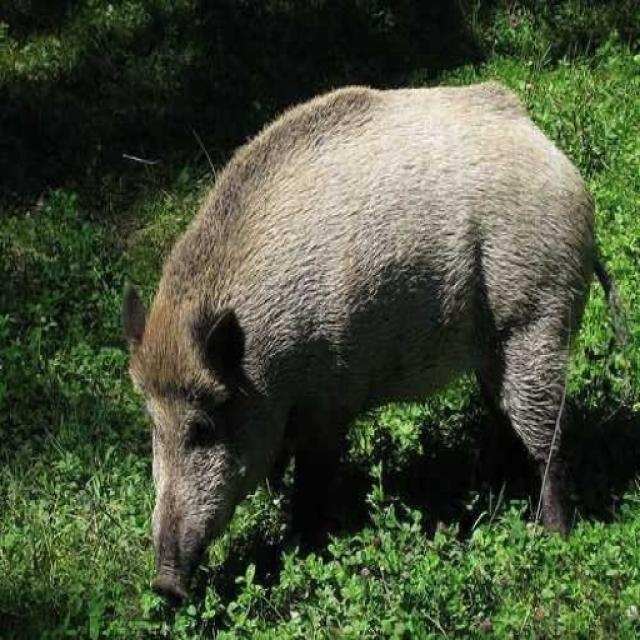pig: (147, 46, 602, 600)
